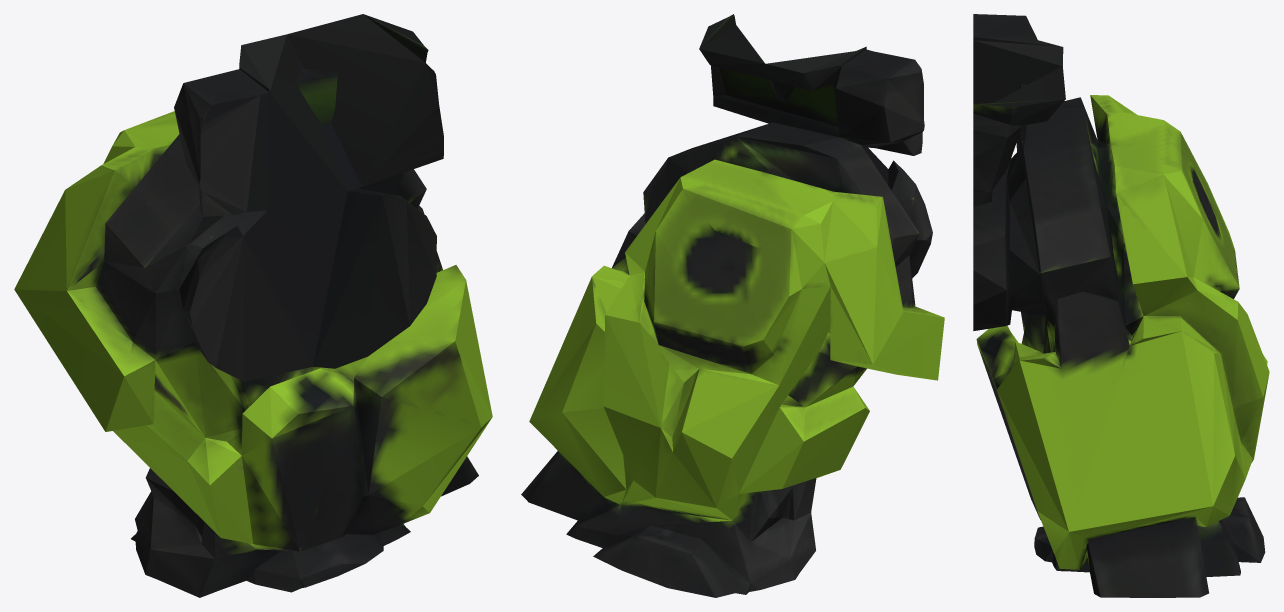
File: SM_ShooterDebris_Thigh_L.fbx
3 views of the same model, side by side, from view 1: azimuth 30°, elevation 25°; view 2: azimuth 150°, elevation 25°; view 3: azimuth 270°, elevation 25° (orthographic). The views are drawn at different scales.
Parts seen in each view (by area): view 1: SM_ShooterDebris_Thigh_L; view 2: SM_ShooterDebris_Thigh_L; view 3: SM_ShooterDebris_Thigh_L.
Boxes of the visible parts, x1,y1,x2,y2 form: SM_ShooterDebris_Thigh_L: (14, 14, 492, 597); SM_ShooterDebris_Thigh_L: (521, 14, 944, 597); SM_ShooterDebris_Thigh_L: (973, 14, 1269, 597).
Bounding box in the file's own units: 33.88 × 43.4 × 24.15.
Materials: 1 (1 with a texture image).
